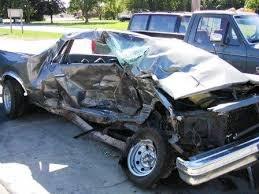Smashed: (20, 29, 210, 183)
